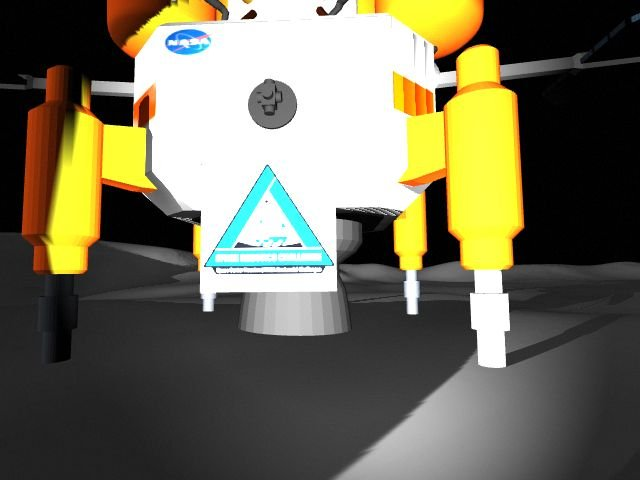basemarker: (200, 162, 335, 277)
